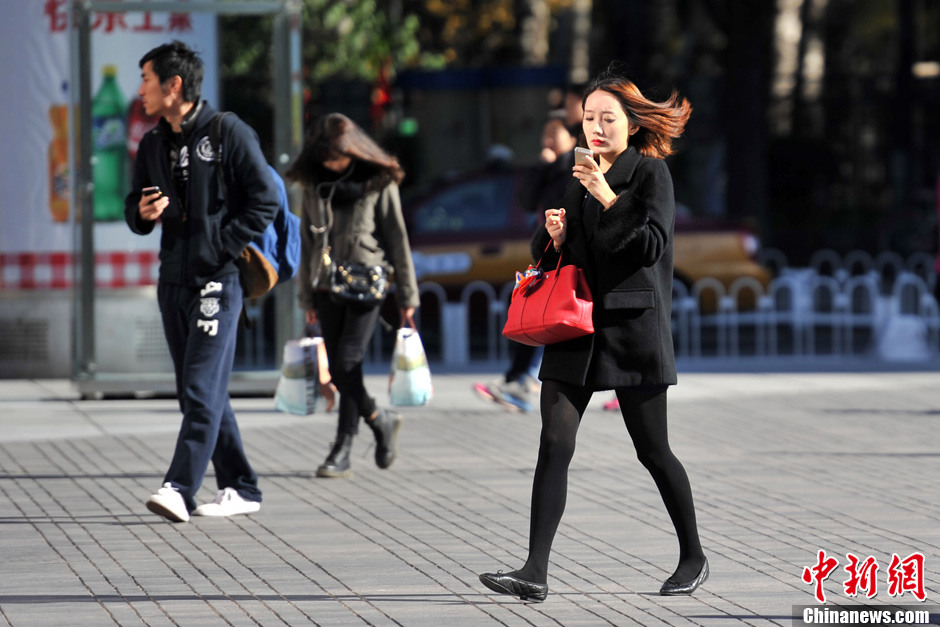without_mask: (582, 104, 630, 158), (141, 65, 177, 122)
